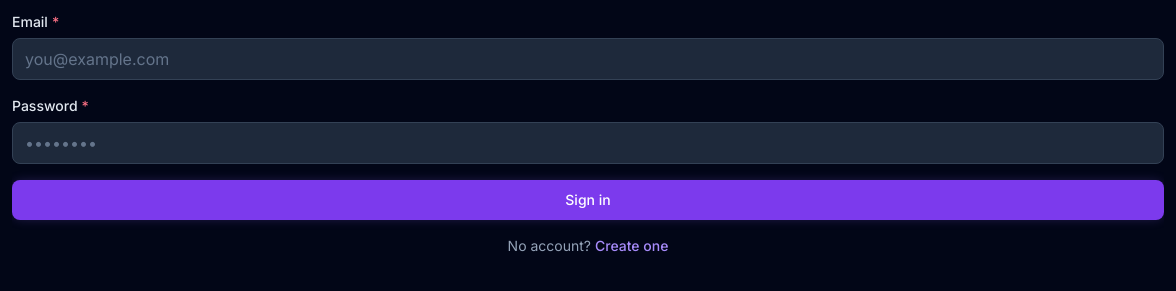
LoginForm › shows password error when email is valid but password is too short
In the field labelled "Email*": [588, 59] box [12, 38, 1164, 80], type "hero@example.com"
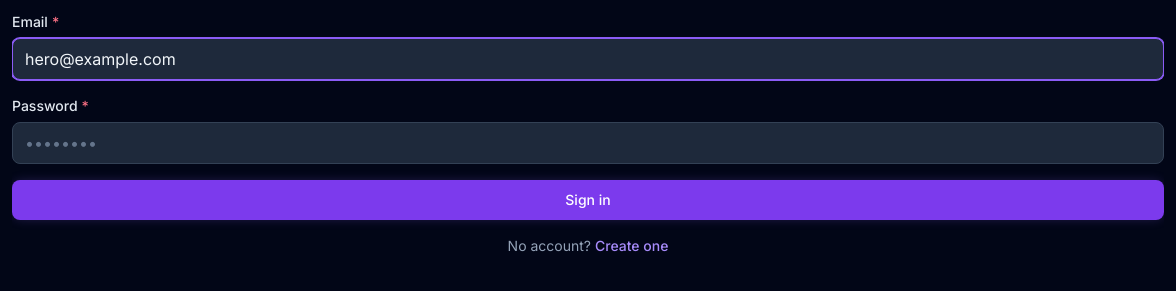
Click the button "Sign in": [588, 200] box [12, 180, 1164, 220]
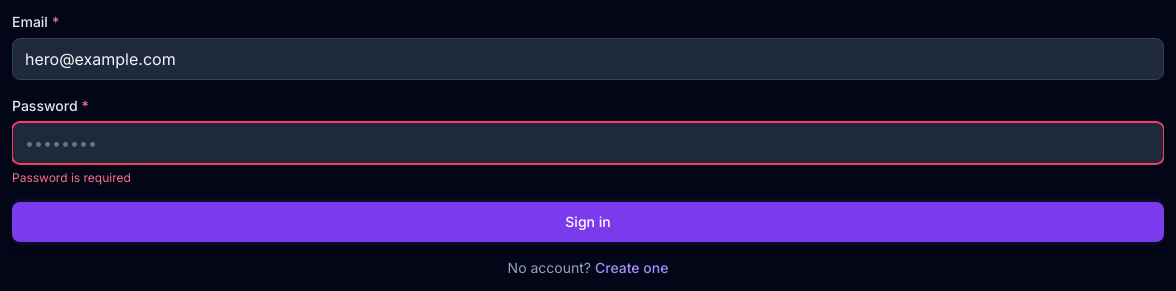
Now the text "Password is required" is shown, box [12, 170, 131, 185]
